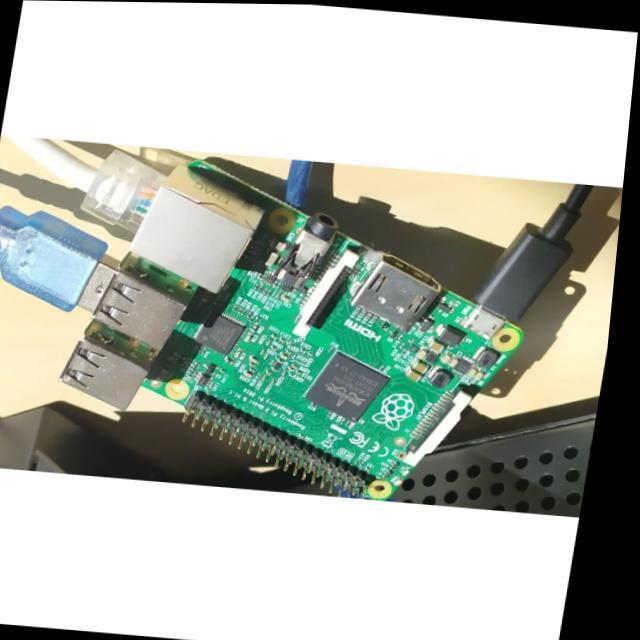Raspberry-Pi-2-B: (64, 160, 522, 499)
